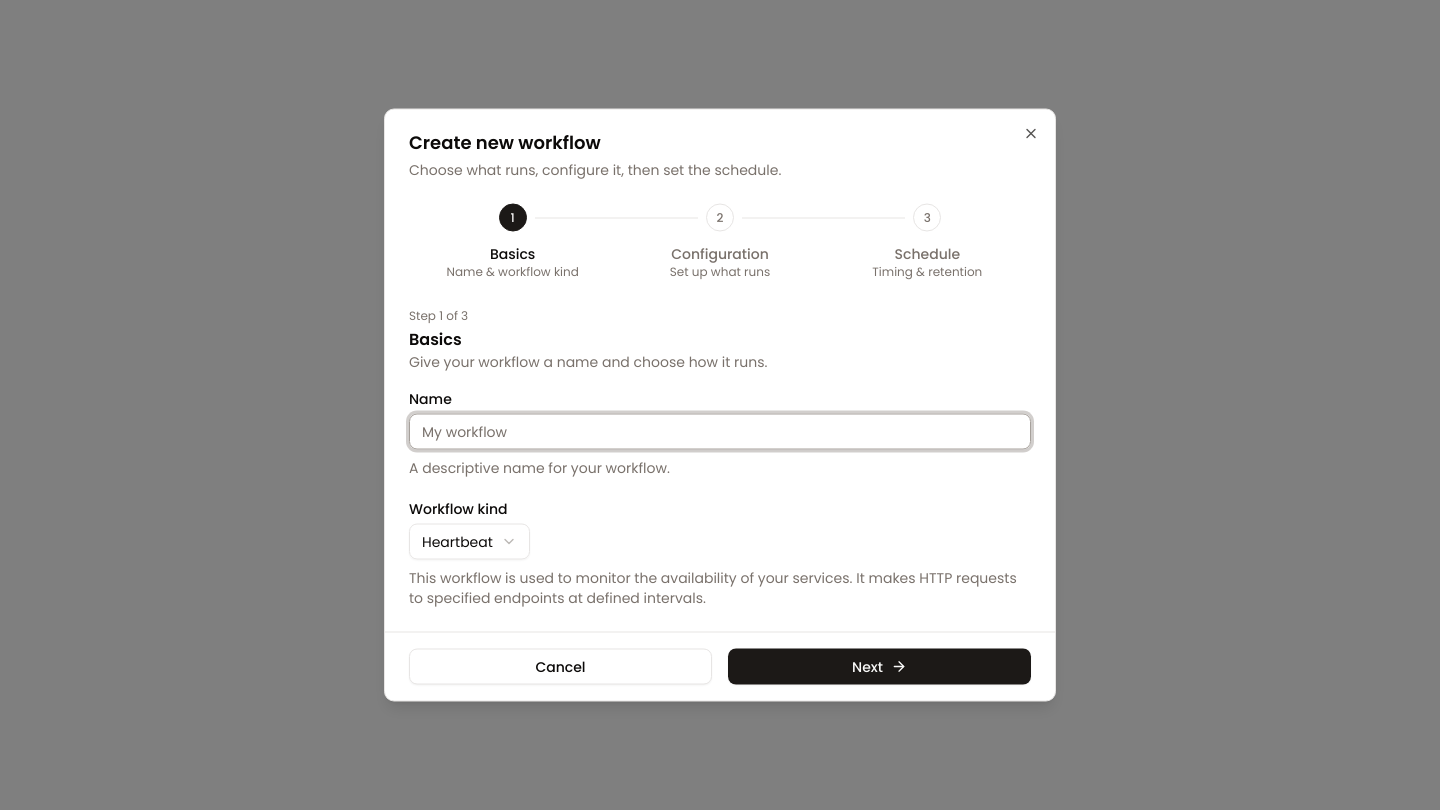
Test: re-checks a configuration field the user already visited when they come back
Step 1. Type "API heartbeat" into the field labelled "Name" → (720, 432), box [409,414,1031,450]
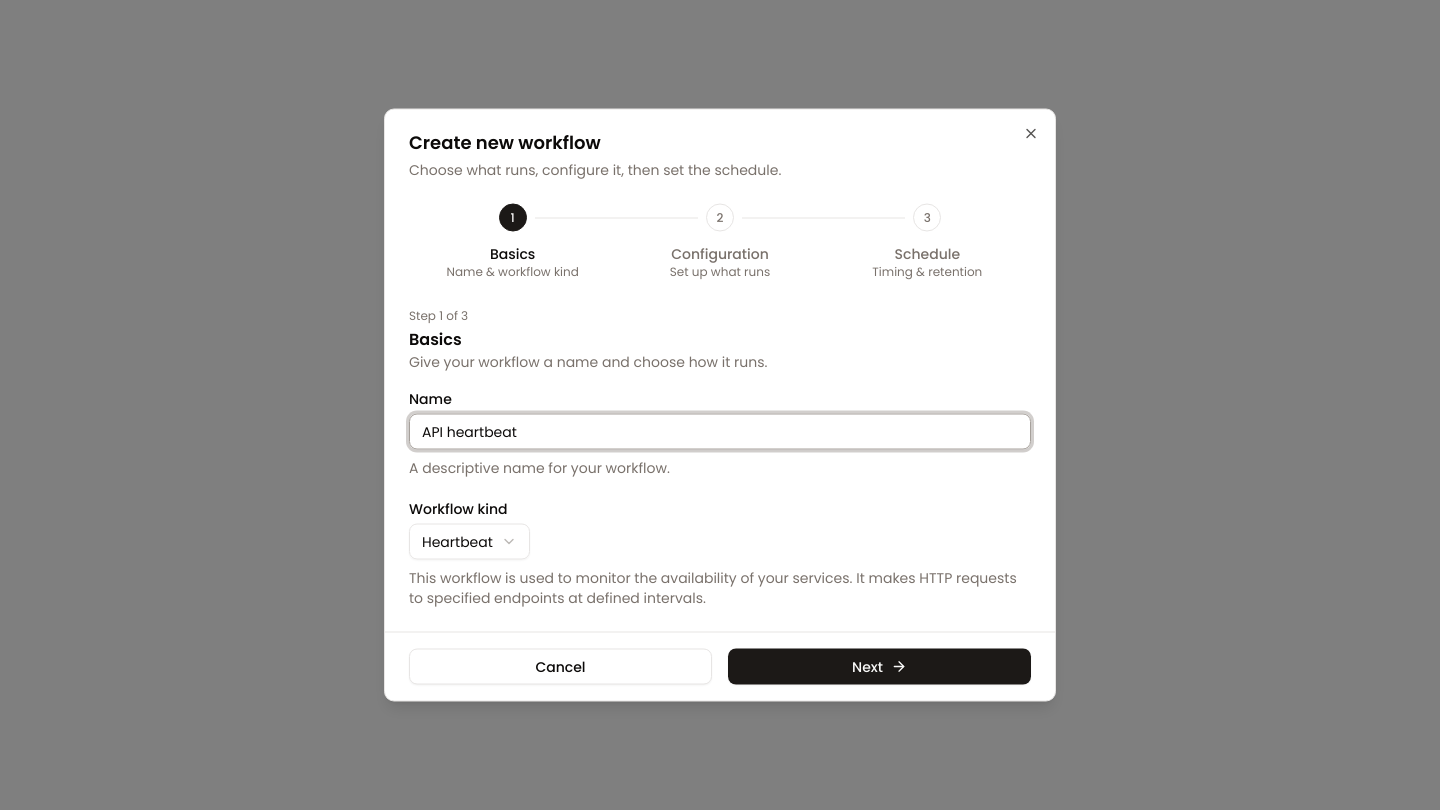
Step 2. Click the button "Next" → (880, 666), box [728,648,1031,684]
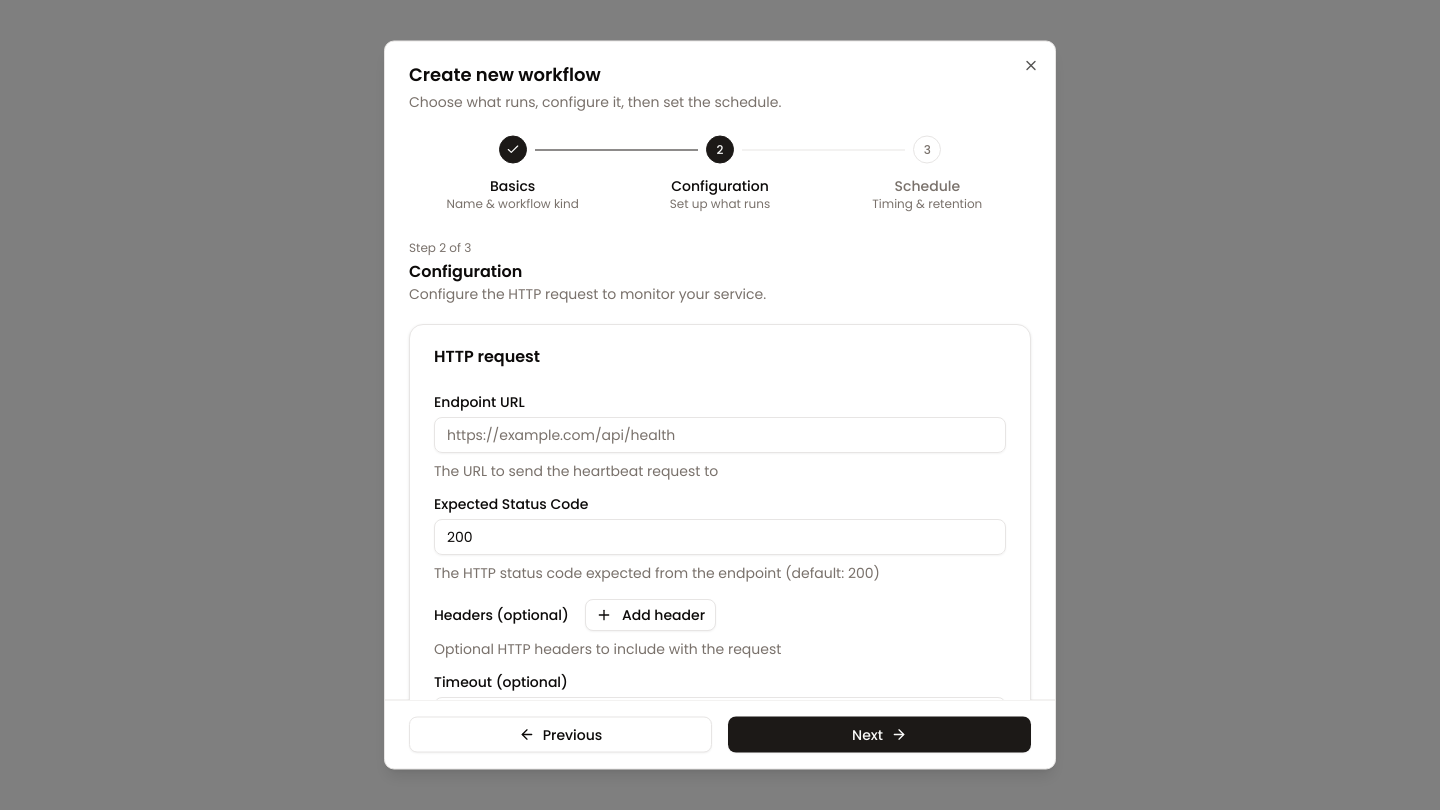
Expected: the text "Step 1 of 3" is gone
Step 3. Type "not a url" into the field labelled "Endpoint URL" → (720, 434), box [434,416,1006,452]
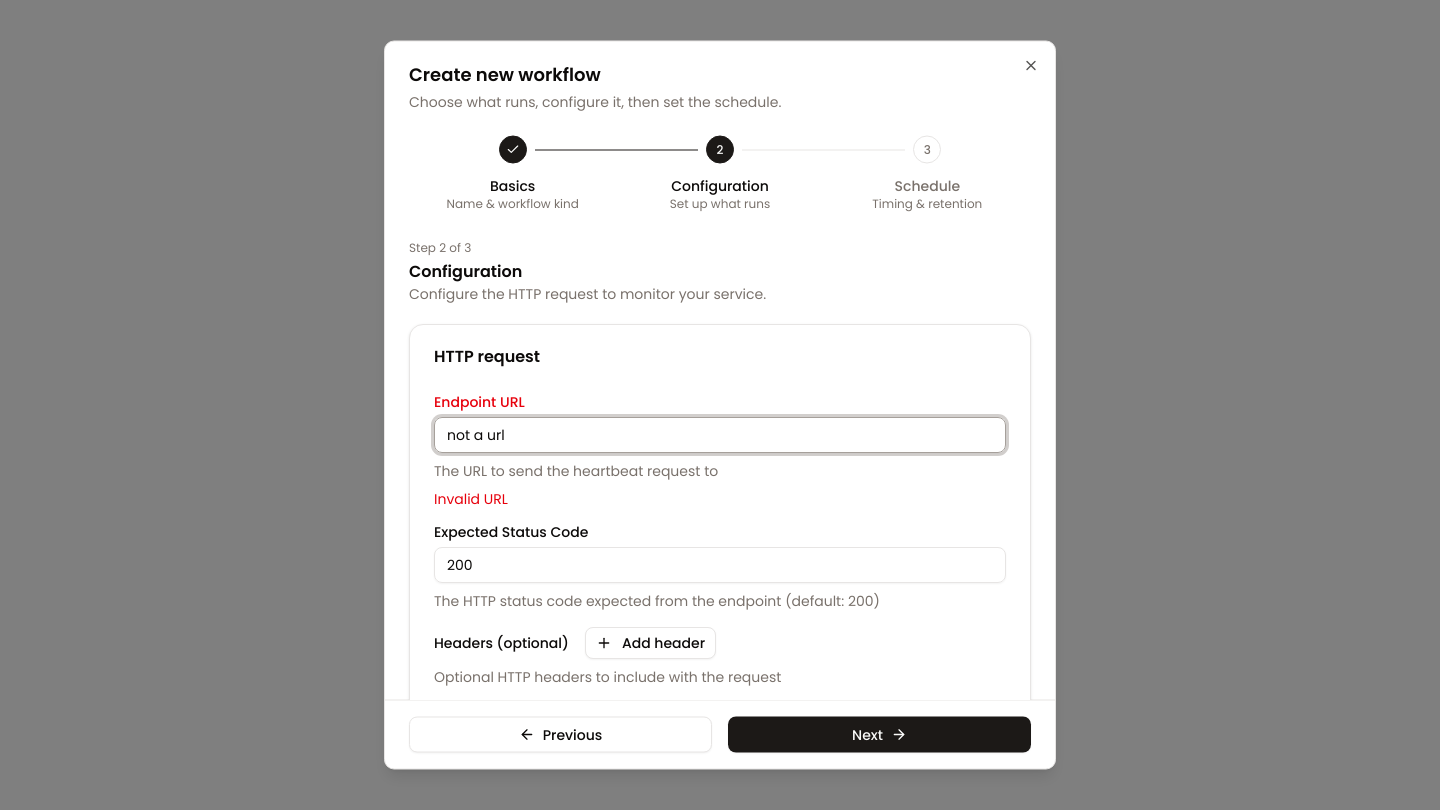
Expected: the text "Invalid URL" is shown, [434,488,508,508]
Step 4. Click the button "Previous" → (560, 734), box [409,716,712,752]
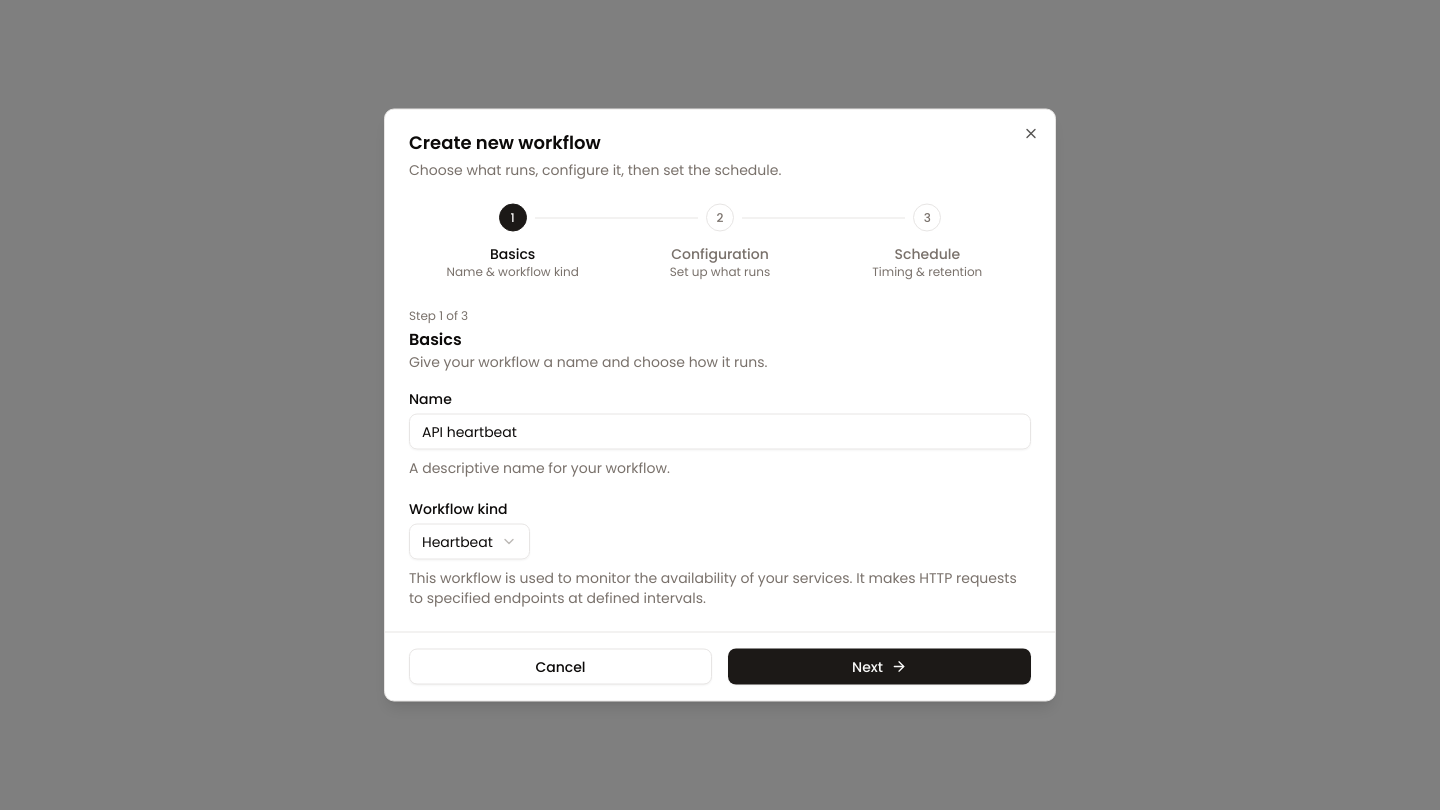
Expected: the heading "Basics" is shown, [409,328,462,350]
Expected: the text "Invalid URL" is gone
Step 5. Click the button "Next" → (880, 666), box [728,648,1031,684]
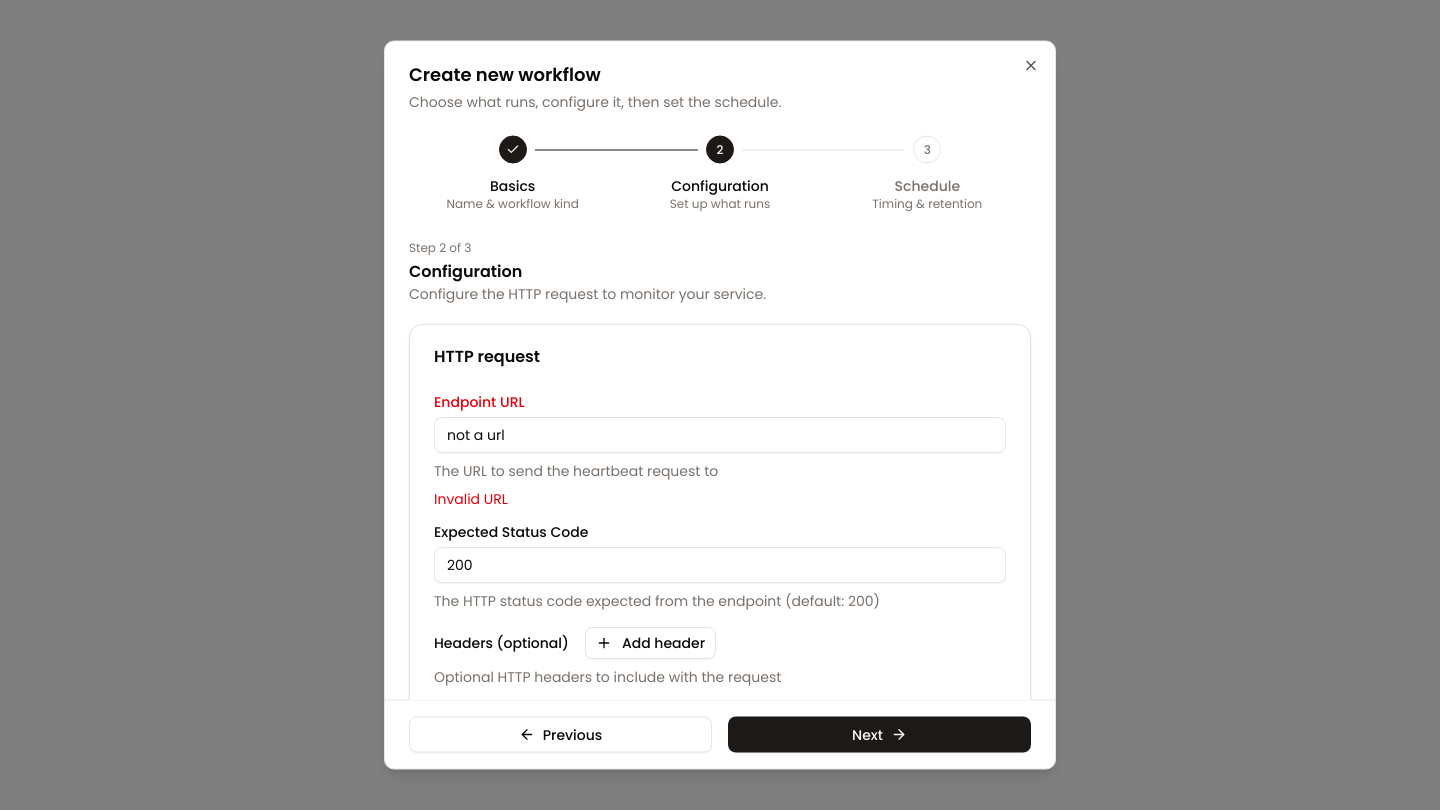
Expected: the heading "Configuration" is shown, [409,260,522,282]
Expected: the text "Invalid URL" is shown, [434,488,508,508]
